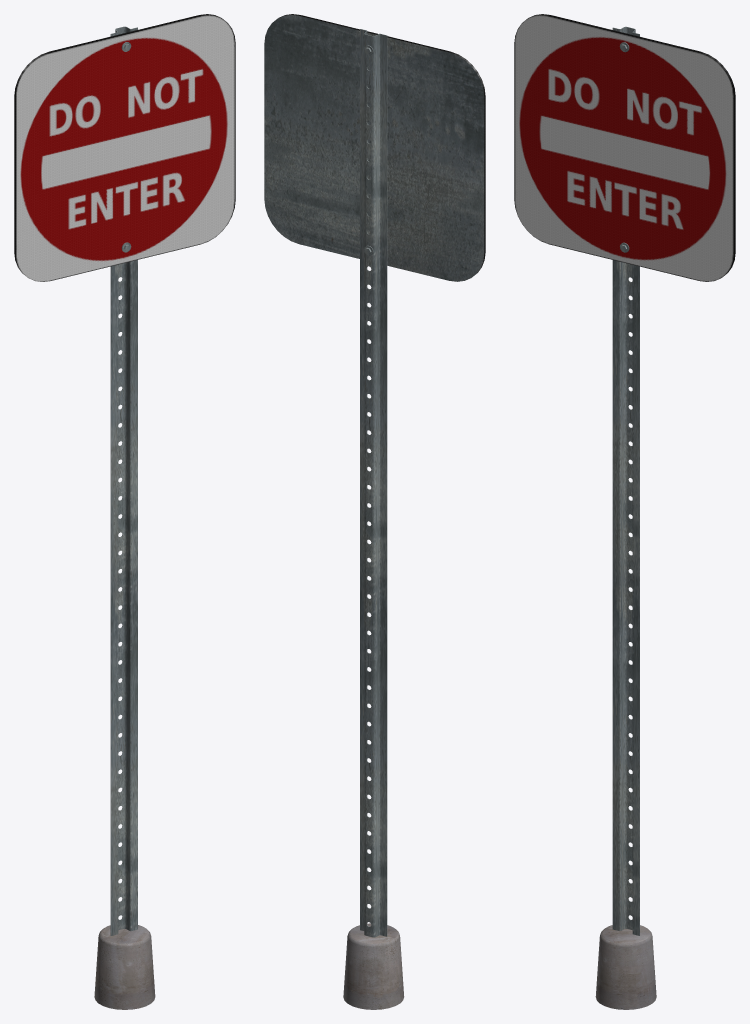
The model's file is donotentersign_nsoc.obj.
3 renders of one model, left to right at view 1: azimuth 30°, elevation 25°; view 2: azimuth 150°, elevation 25°; view 3: azimuth 330°, elevation 25°, orthographic.
Parts seen in each view (by area): view 1: sign_do_not_enter; view 2: sign_do_not_enter; view 3: sign_do_not_enter.
Boxes of the visible parts, x1=… form: sign_do_not_enter: x1=14, y1=14, x2=235, y2=1009; sign_do_not_enter: x1=264, y1=14, x2=485, y2=1009; sign_do_not_enter: x1=514, y1=14, x2=735, y2=1009.
Bounding box in the file's own units: 24.41 × 102 × 5.84.
Materials: 3 (3 with a texture image).
